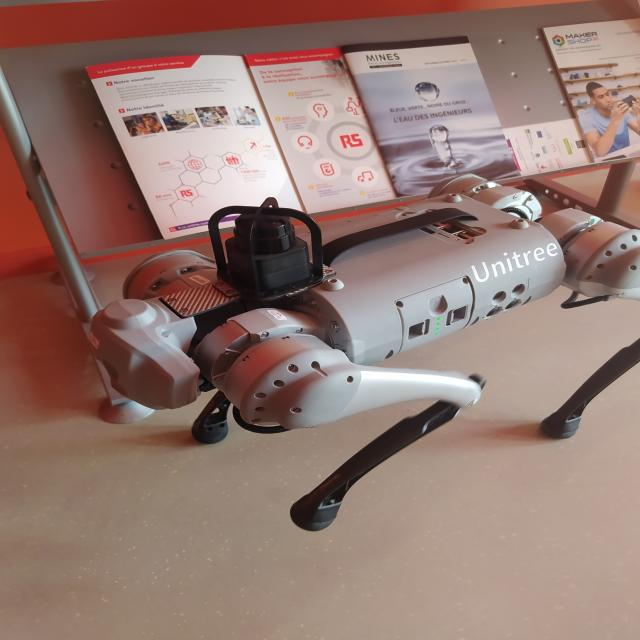unitree-go1-robot: (69, 155, 640, 558)
